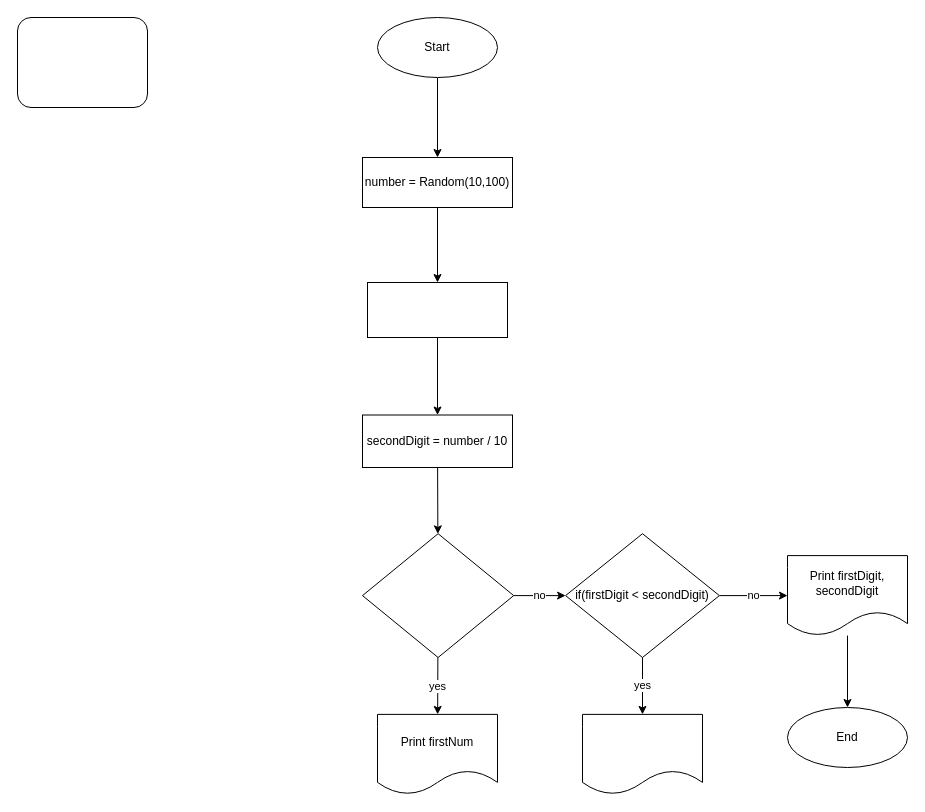
Image size: 925x812. Some labels were removed from this diagram. The shapes that lost their labels are listed below. From the top down, each one's centre as x and y in pixels, then its label:
At pixel 82 62: "Дано число из отрезка [10, 99]. Показать наиболльшую цифру числа".
At pixel 437 310: "firstDigit = number % 10".
At pixel 438 595: "if(firstDigit > secondDigit)".
At pixel 642 753: "Print number".
